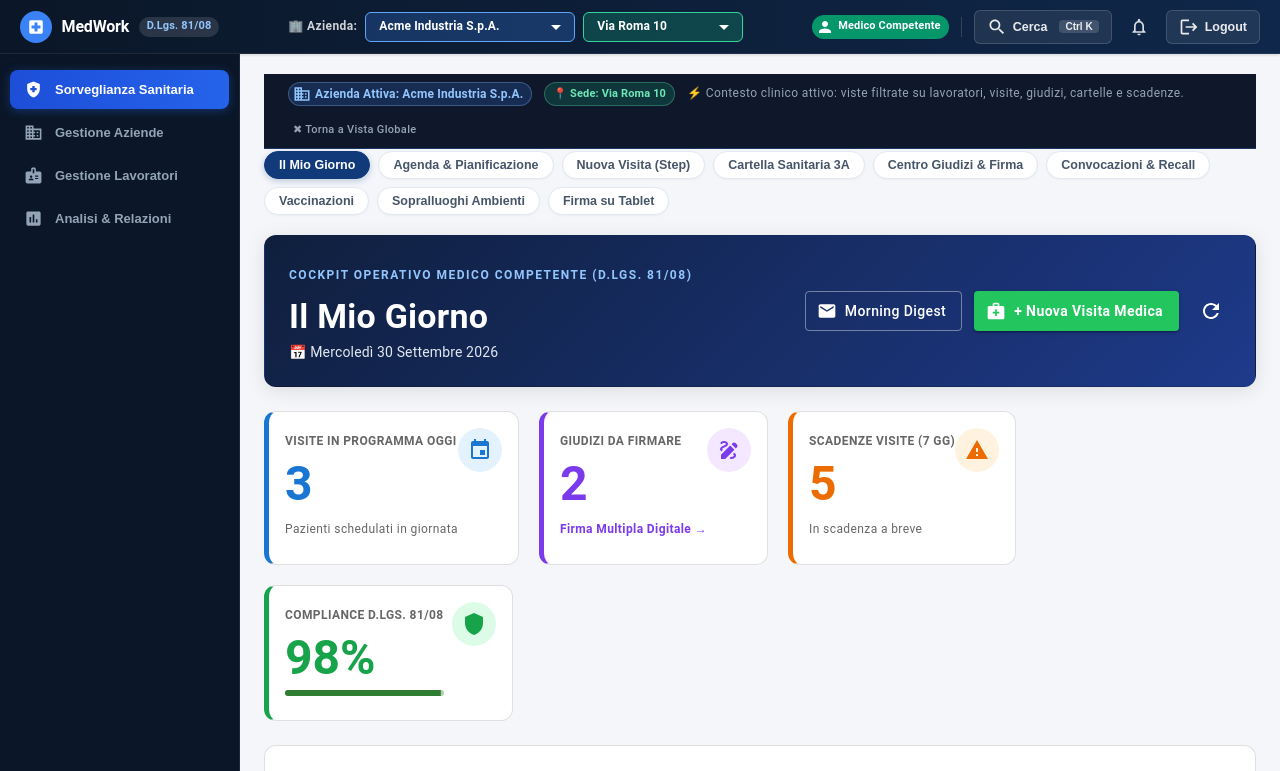
App shell and navigation › double clicking a worker row in WorkersCenter navigates to Cartella Sanitaria
Click the button "Gestione Lavoratori": click(120, 176) [10,156,229,195]
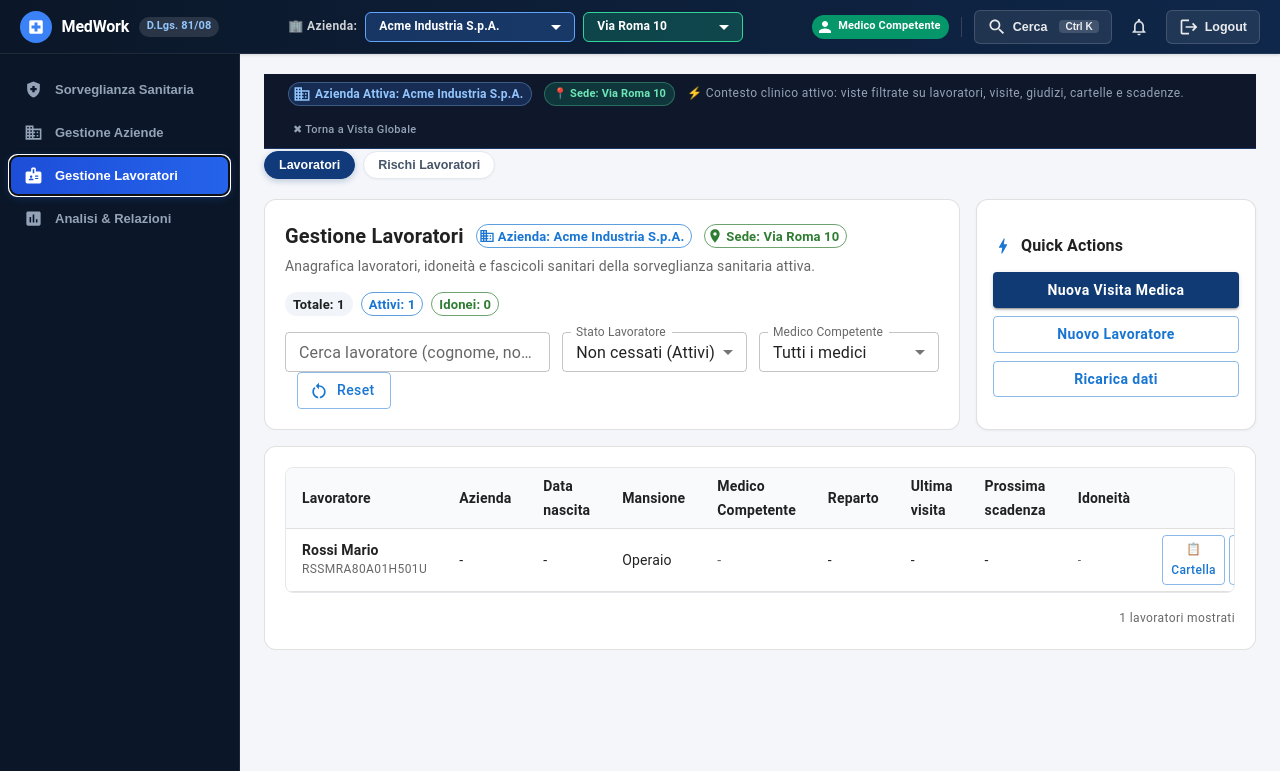
Expected: the text "Rossi Mario" is shown, [302,542,379,558]
Double-click the text "Rossi Mario": (783, 560) [286,528,1279,592]
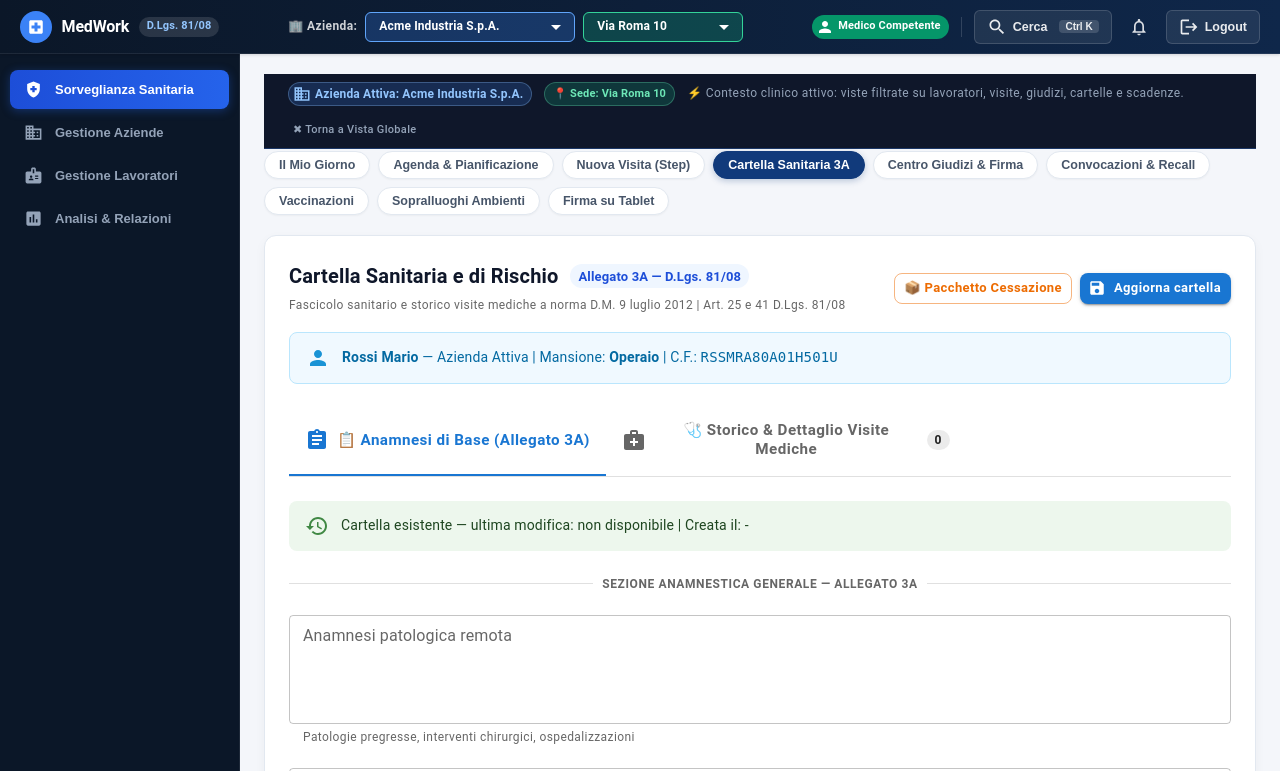
Expected: the button "Cartella Sanitaria 3A" is shown, [713,151,865,179]
